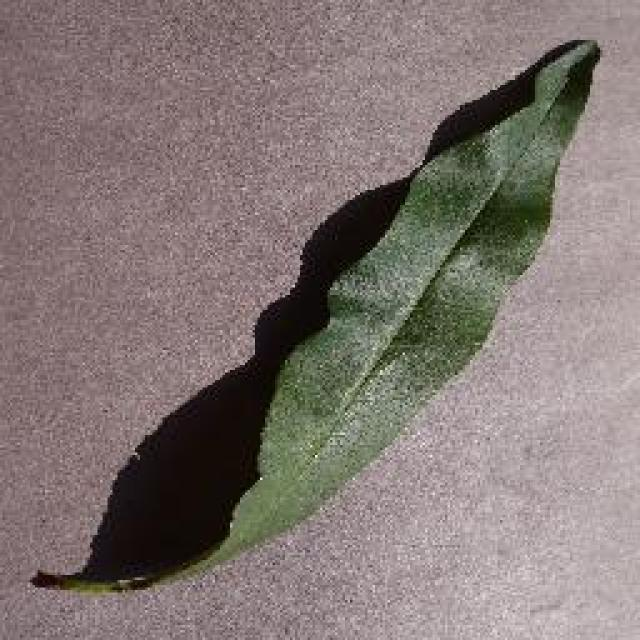Pea_healthy: (210, 94, 579, 554)
